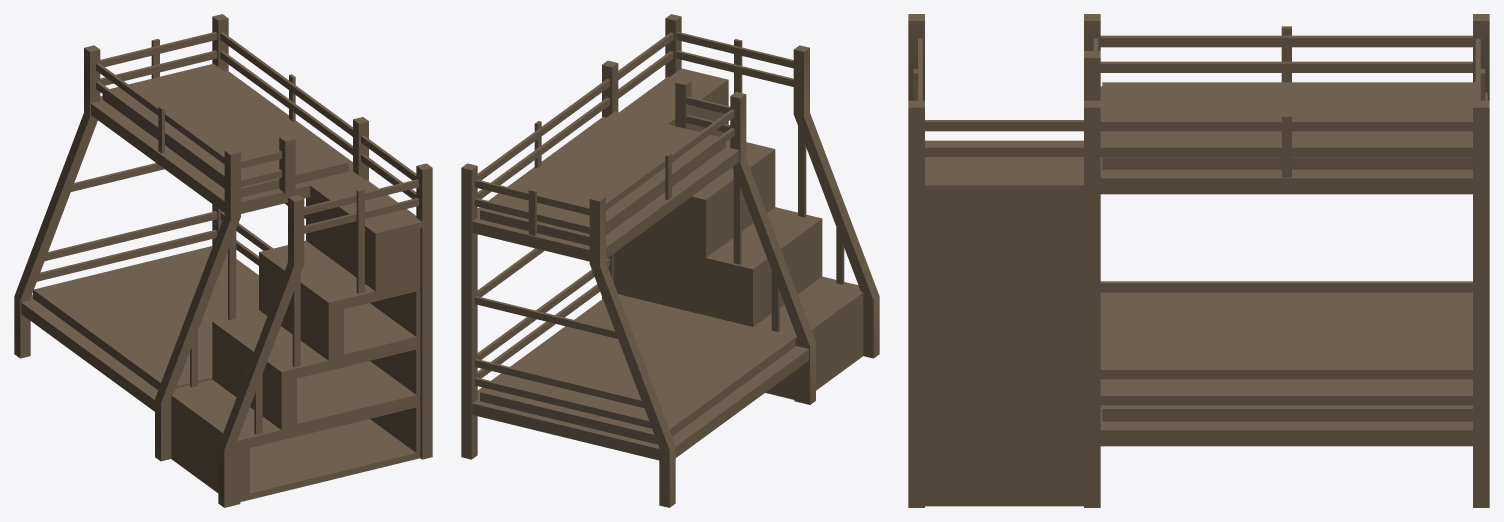
File: Itr_Bed_Bunk2_03.FBX
3 renders of one model, left to right at view 1: azimuth 30°, elevation 25°; view 2: azimuth 150°, elevation 25°; view 3: azimuth 270°, elevation 25°, orthographic. The views are drawn at different scales.
Parts seen in each view (by area): view 1: Itr_Bed_Bunk2_03; view 2: Itr_Bed_Bunk2_03; view 3: Itr_Bed_Bunk2_03.
Boxes of the visible parts, bbox=[...] form: Itr_Bed_Bunk2_03: bbox=[14, 14, 432, 507]; Itr_Bed_Bunk2_03: bbox=[461, 14, 879, 507]; Itr_Bed_Bunk2_03: bbox=[908, 14, 1489, 507].
Size of the model in its own units: 79.49 by 106 by 139.
